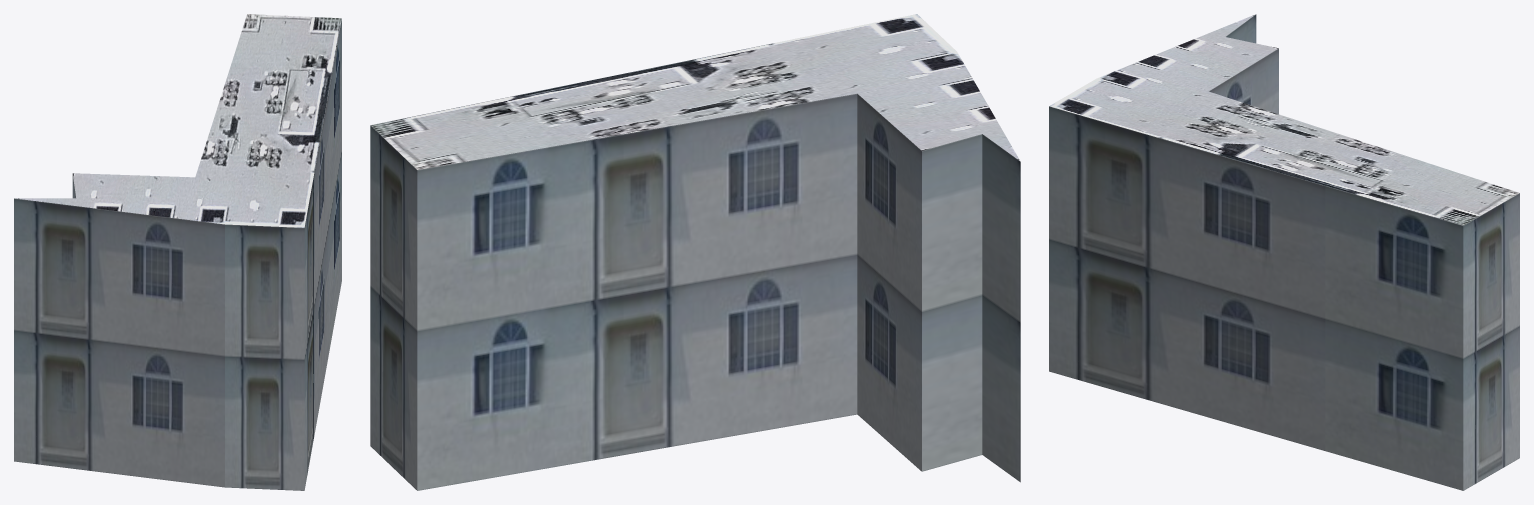
The model's file is ResTex__4509.fbx.
3 renders of one model, left to right at view 1: azimuth 30°, elevation 25°; view 2: azimuth 150°, elevation 25°; view 3: azimuth 270°, elevation 25°, orthographic. The views are drawn at different scales.
Parts seen in each view (by area): view 1: CityEngineMaterial_17_m, CityEngineMaterial_4_m; view 2: CityEngineMaterial_17_m, CityEngineMaterial_4_m; view 3: CityEngineMaterial_17_m, CityEngineMaterial_4_m.
Boxes of the visible parts, x1,y1,x2,y2 form: CityEngineMaterial_17_m: (14, 19, 341, 490); CityEngineMaterial_4_m: (14, 14, 341, 227); CityEngineMaterial_17_m: (370, 93, 1020, 490); CityEngineMaterial_4_m: (370, 14, 1020, 169); CityEngineMaterial_17_m: (1049, 14, 1519, 490); CityEngineMaterial_4_m: (1049, 14, 1519, 225).
Bounding box in the file's own units: 10.28 × 6 × 9.66.
Materials: 2 (2 with a texture image).
